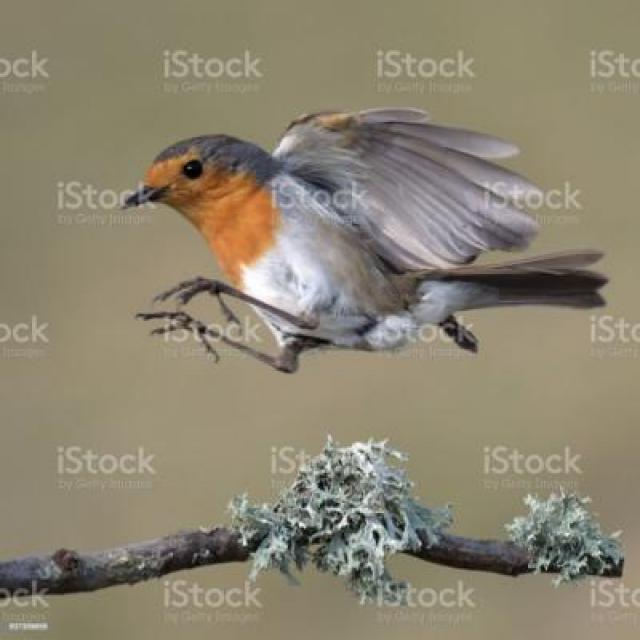birds: (122, 105, 622, 375)
